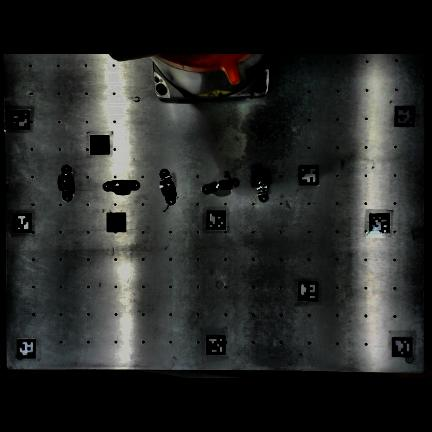clamp: (253, 167, 269, 202), (159, 170, 175, 205), (202, 179, 239, 194), (57, 165, 72, 201), (102, 180, 141, 191)
marker: (394, 107, 415, 128), (12, 213, 32, 234), (370, 214, 390, 234), (299, 166, 319, 186), (298, 282, 318, 302), (206, 337, 226, 357), (10, 111, 29, 132), (207, 210, 226, 231), (392, 338, 412, 357), (17, 339, 36, 359), (107, 213, 126, 232), (90, 136, 109, 154)
